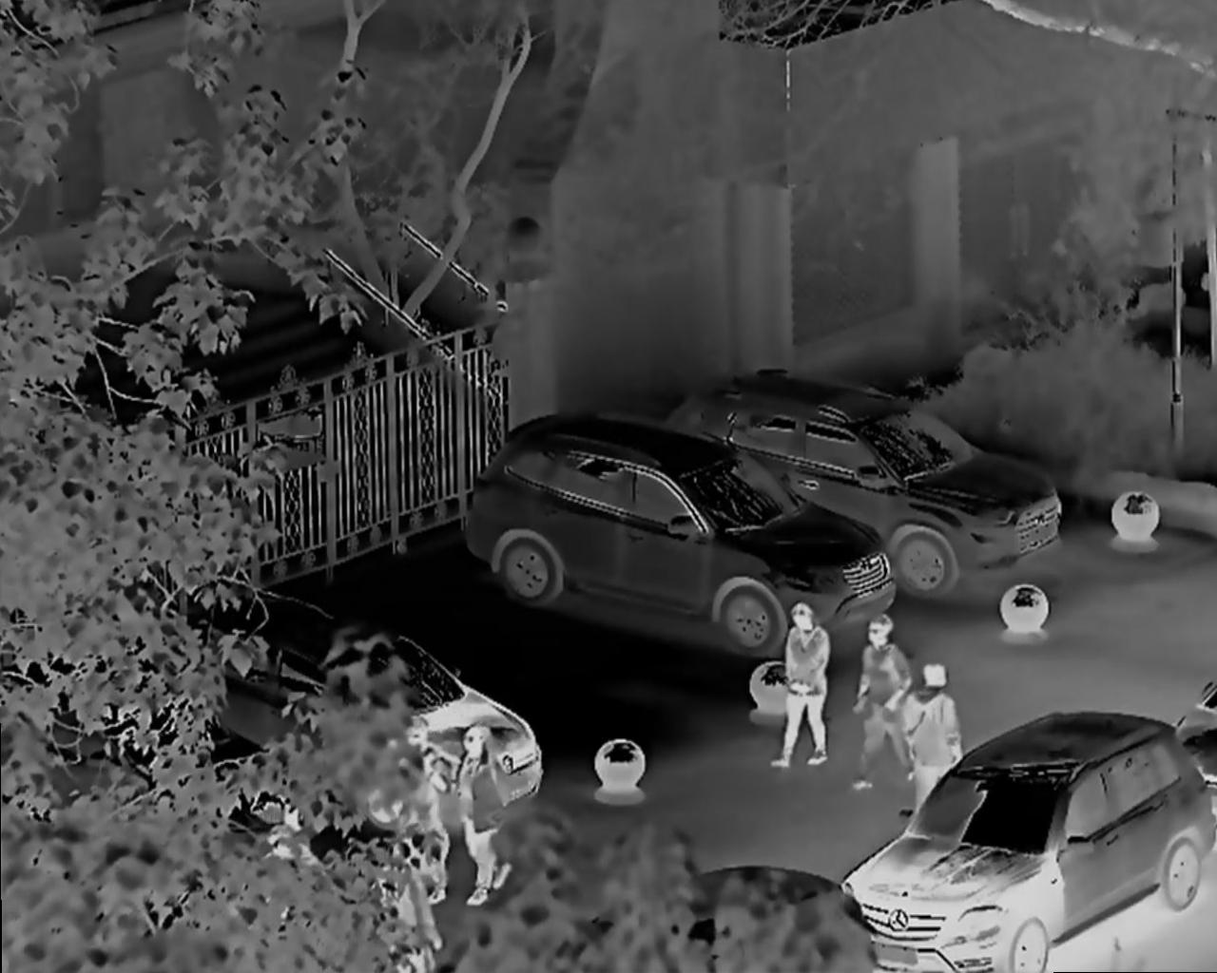person: (456, 713, 524, 920), (776, 601, 831, 785), (864, 611, 911, 773), (909, 662, 966, 779)
